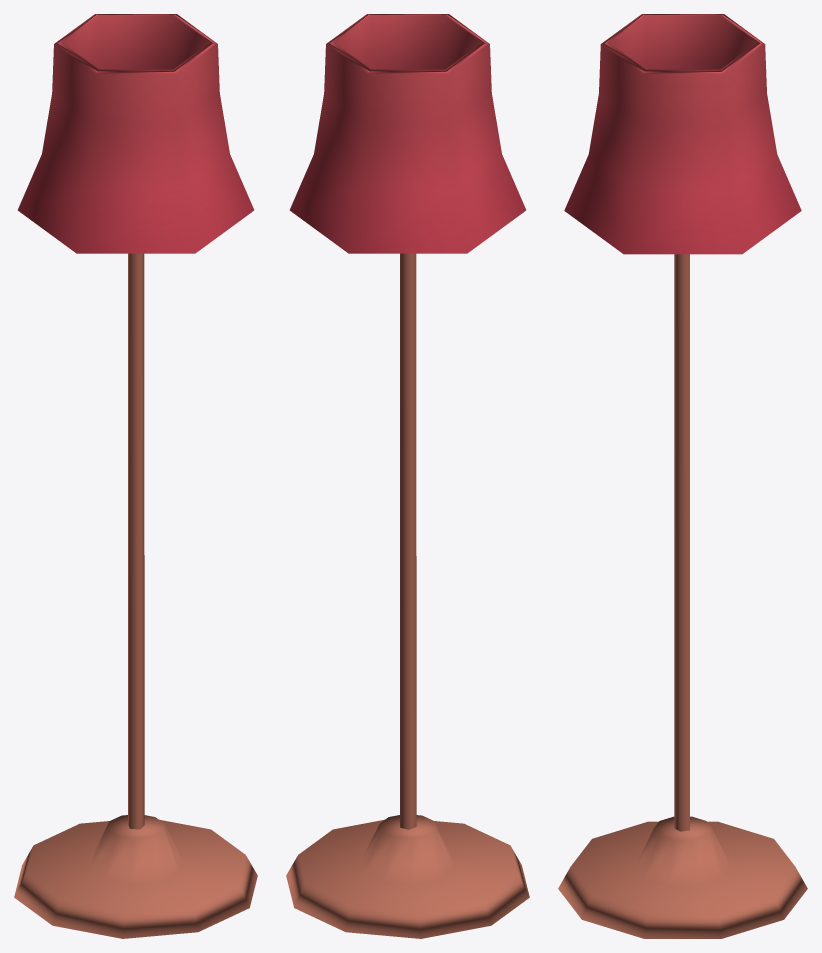
Rendered from SM_Lamp_Floor_1_02.fbx.
3 renders of one model, left to right at view 1: azimuth 30°, elevation 25°; view 2: azimuth 150°, elevation 25°; view 3: azimuth 270°, elevation 25°, orthographic.
Parts seen in each view (by area): view 1: SM_Lamp_Floor_1_02; view 2: SM_Lamp_Floor_1_02; view 3: SM_Lamp_Floor_1_02.
Part boxes in pixels (left/top/right/bottom): SM_Lamp_Floor_1_02: left=14, top=14, right=257, bottom=938; SM_Lamp_Floor_1_02: left=286, top=14, right=529, bottom=938; SM_Lamp_Floor_1_02: left=558, top=14, right=807, bottom=938.
Bounding box in the file's own units: 50.31 × 198 × 52.89.
